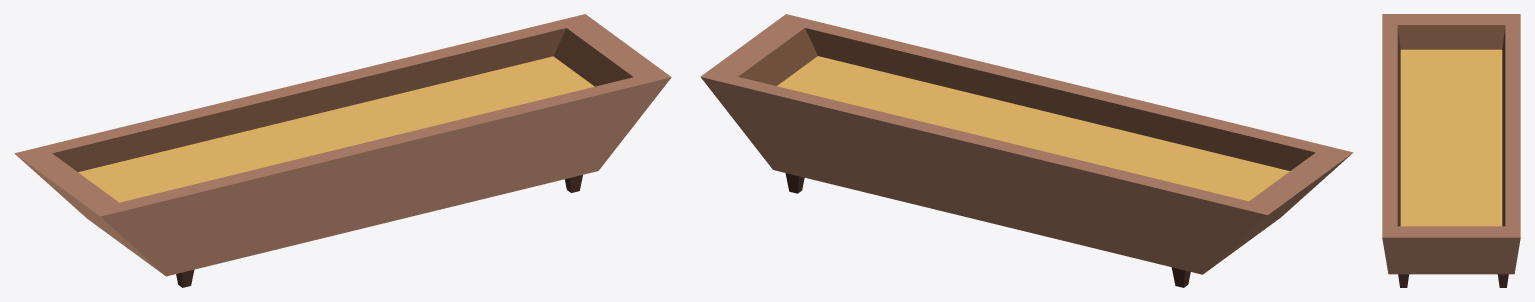
File: drinking_trough_wheat.glb
The picture shows the model from 3 angles, left to right: view 1: azimuth 30°, elevation 25°; view 2: azimuth 150°, elevation 25°; view 3: azimuth 270°, elevation 25°; orthographic projection. The views are drawn at different scales.
Visible parts, largest first — view 1: drinking_trough_wheat; view 2: drinking_trough_wheat; view 3: drinking_trough_wheat.
Part boxes in pixels (left/top/right/bottom): drinking_trough_wheat: left=14, top=14, right=671, bottom=287; drinking_trough_wheat: left=700, top=14, right=1353, bottom=287; drinking_trough_wheat: left=1382, top=14, right=1520, bottom=287.
Size of the model in its own units: 9.05 by 1.55 by 2.37.
1 material, 1 textured.
